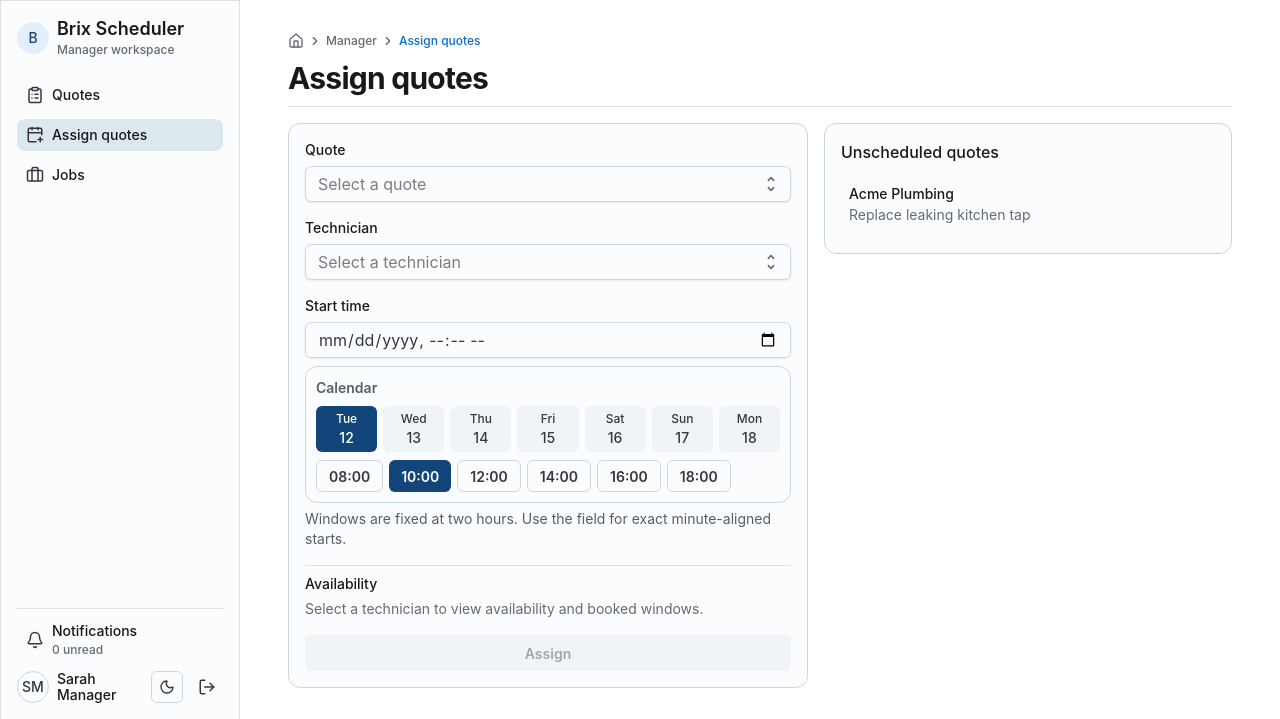
it: manager dashboard › Assign page handles technicians without availability or booked windows
Click the dropdown labelled "technician" at (389, 262), box [318,248,753,276]
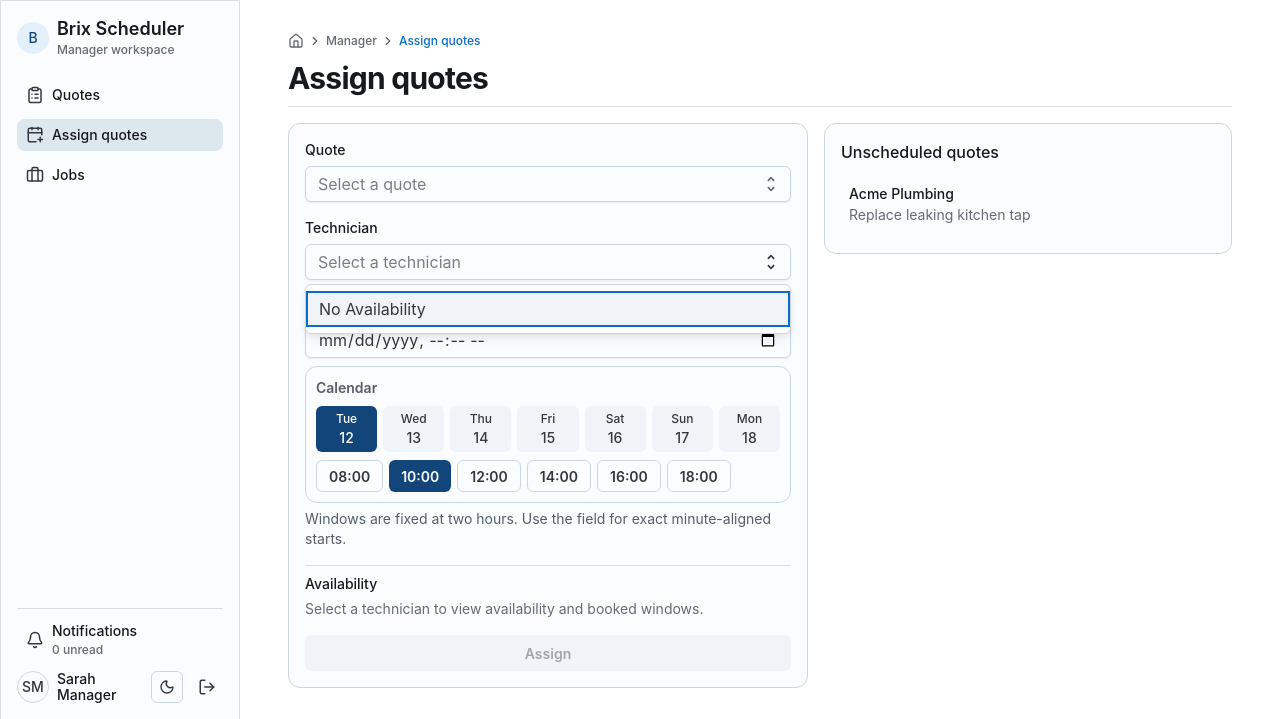
Click the option "No Availability" at (372, 309), box [306,291,790,327]
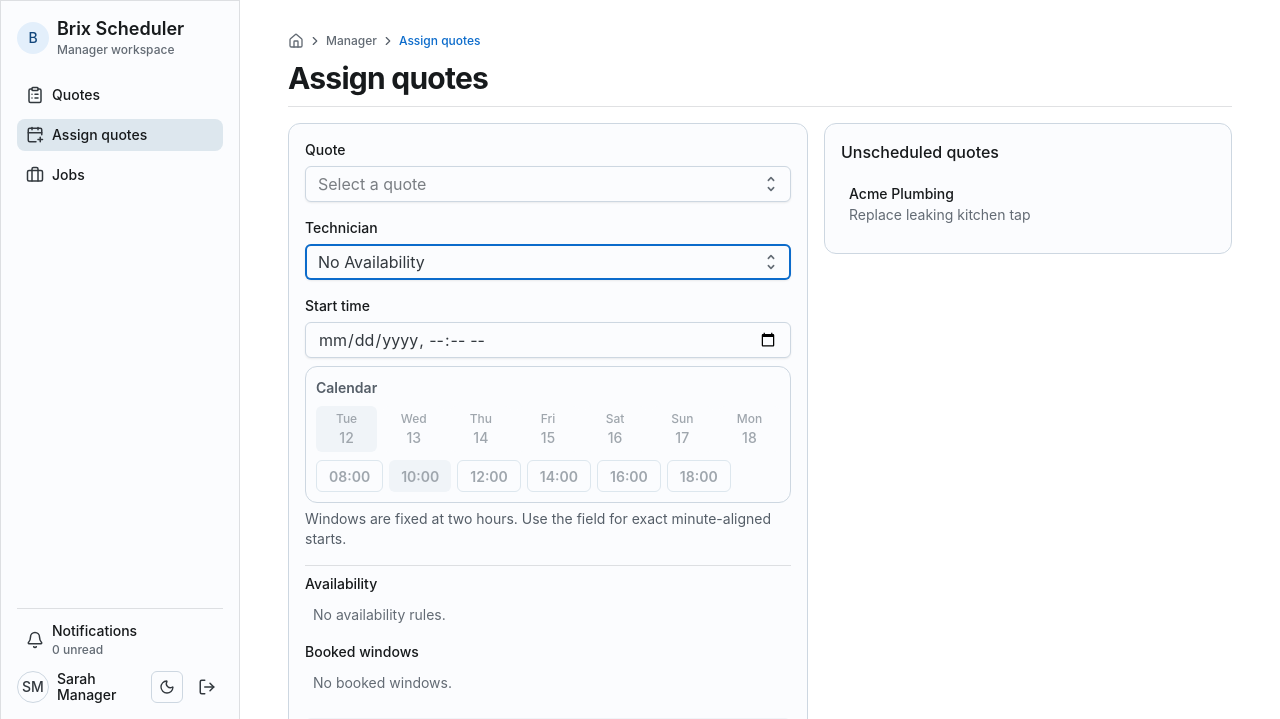
expect the element named "No Availability availability" shows "No availability rules.": met, box [313,606,446,622]
expect the element named "No Availability availability" shows "No booked windows.": met, box [313,674,452,690]
